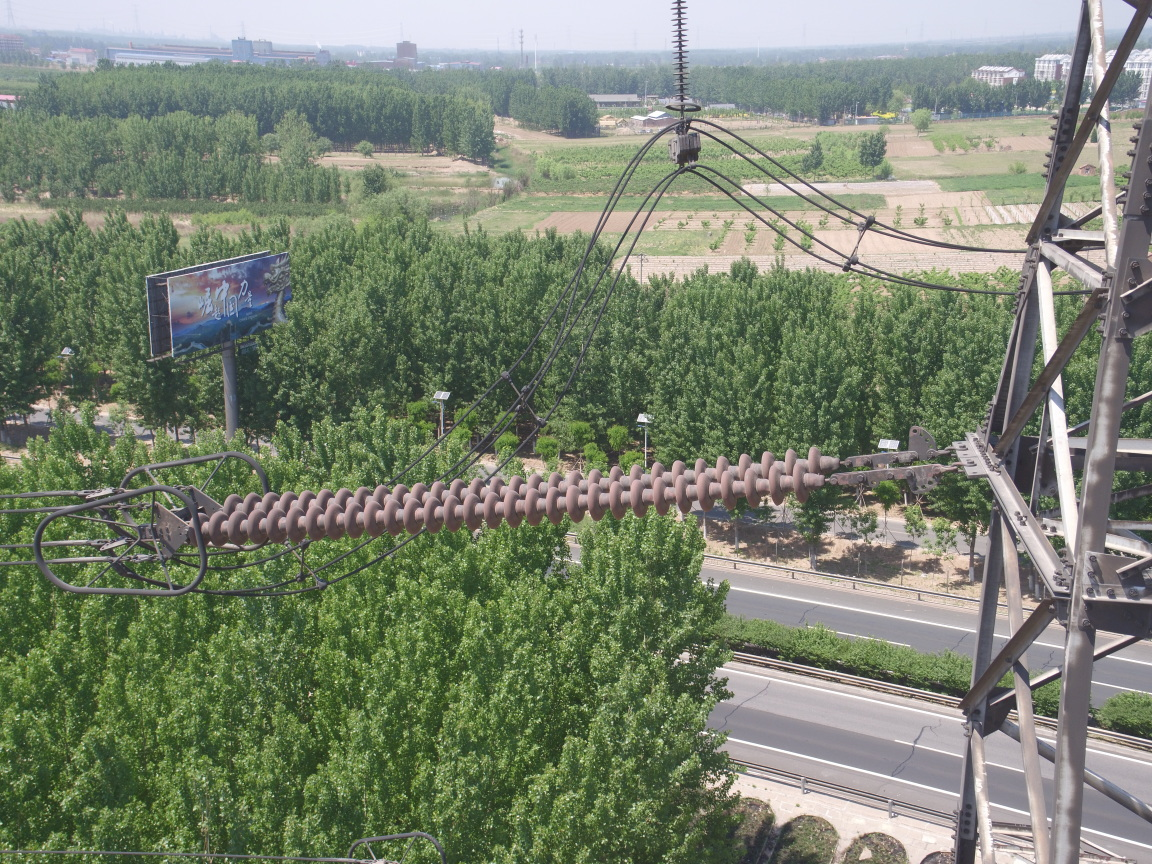insulator: (171, 442, 882, 553)
